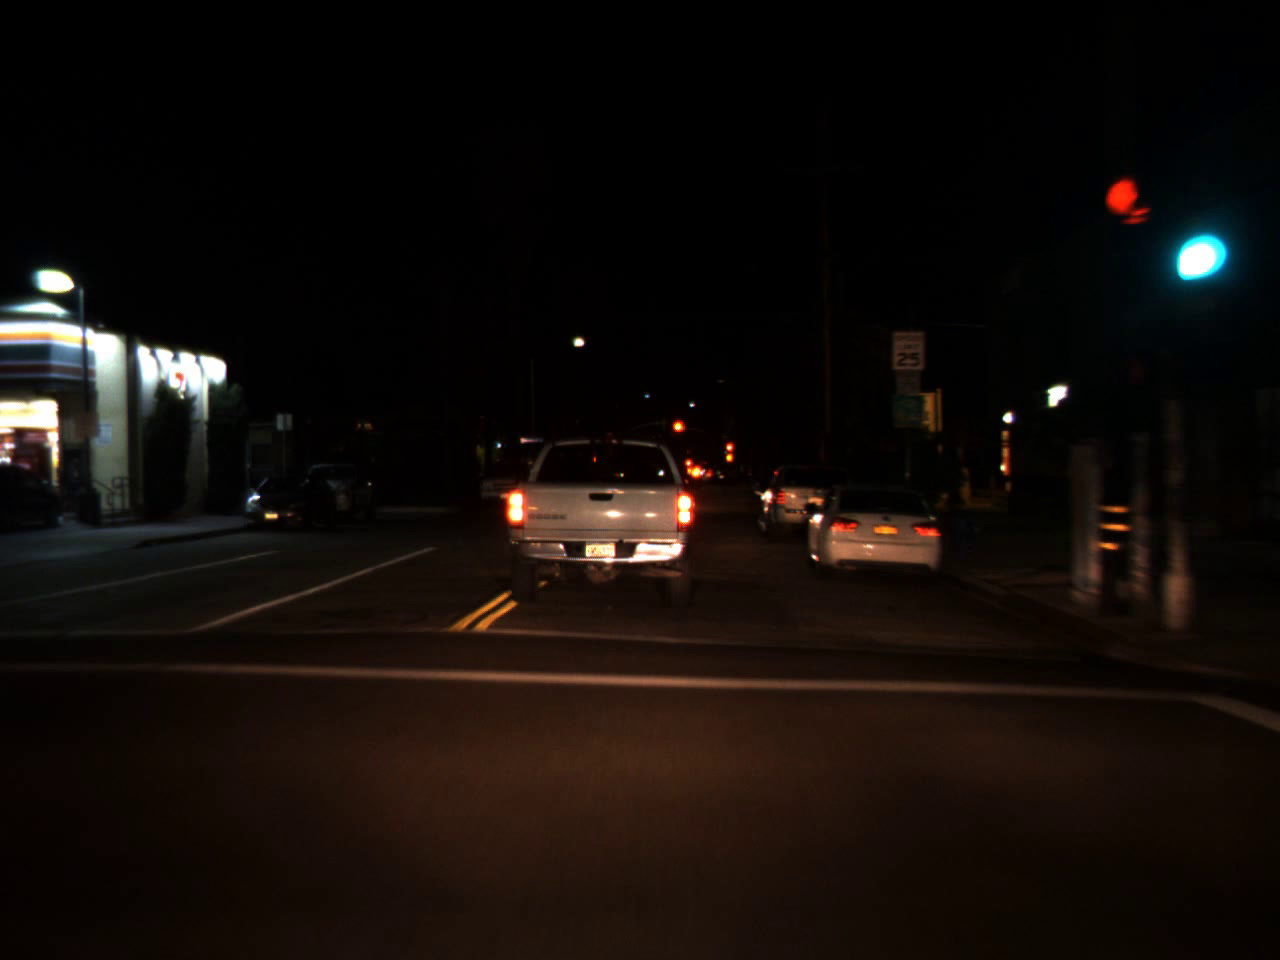go: (1165, 205, 1215, 289)
stop: (670, 419, 686, 446), (725, 442, 734, 463)
